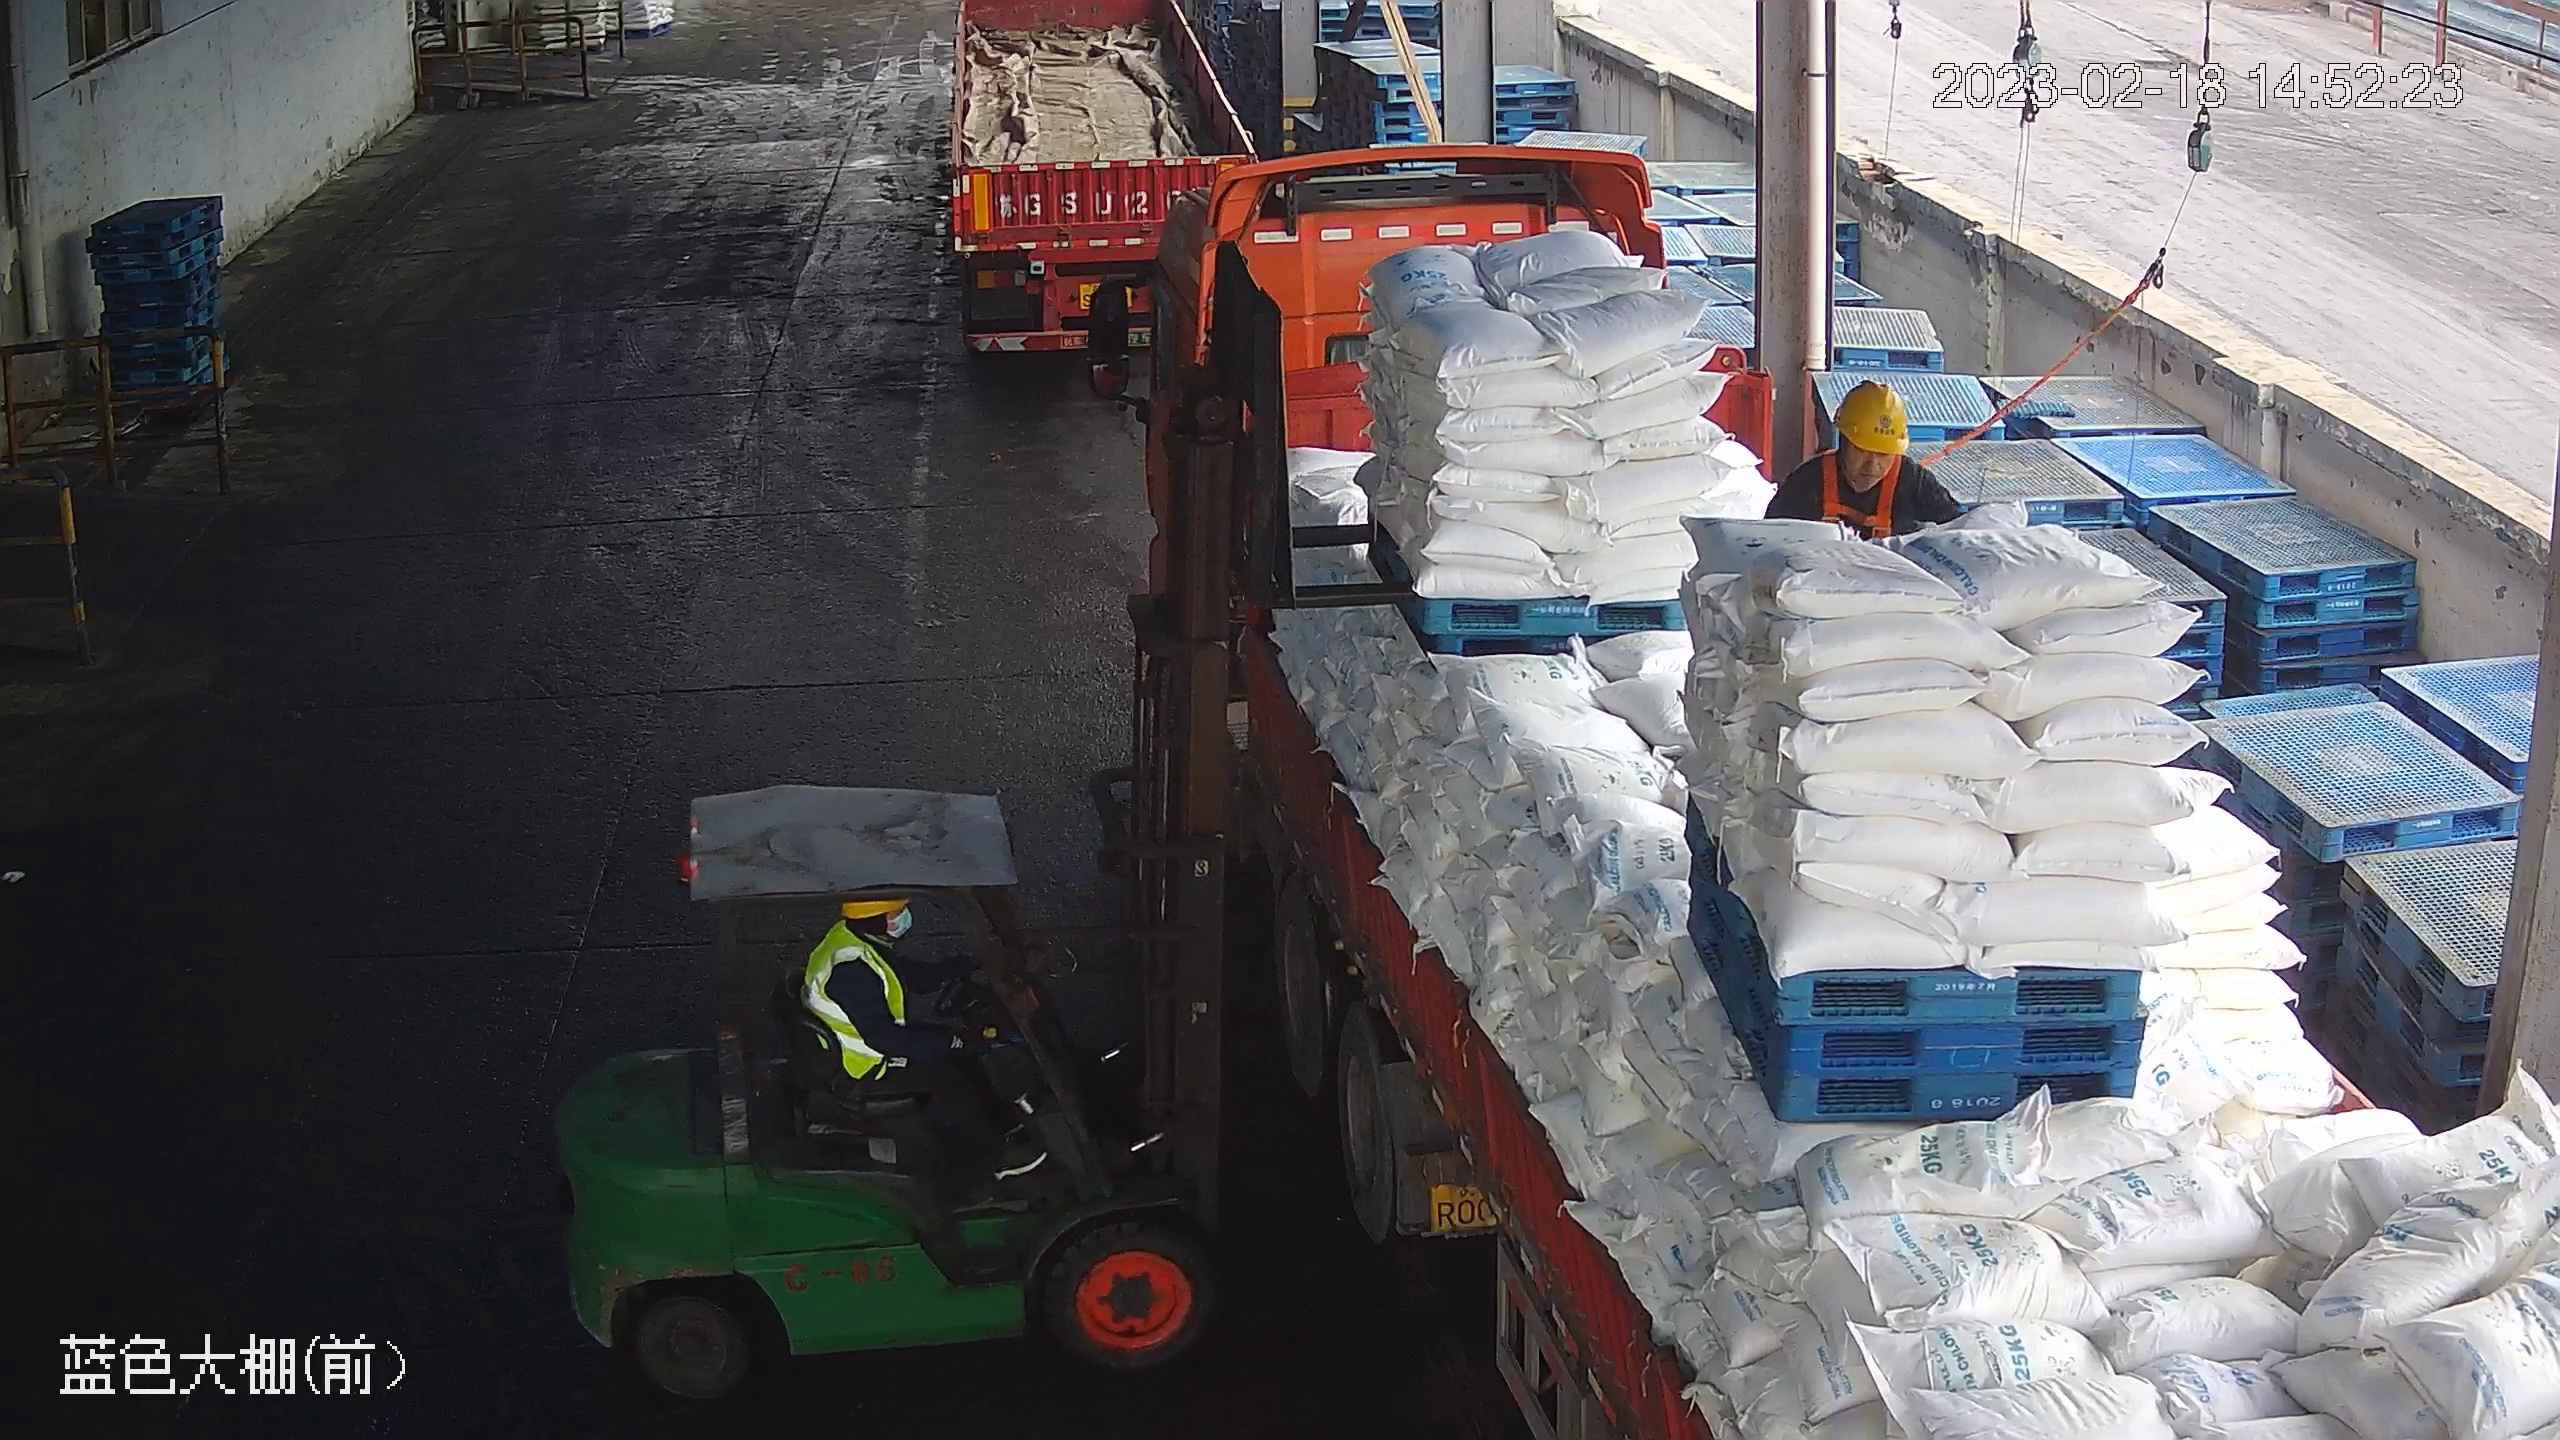belt: (1819, 452, 1912, 544)
head: (1780, 376, 1951, 516)
helmet: (1833, 376, 1915, 459)
people: (803, 890, 1046, 1169)
truck: (1082, 158, 2555, 1440), (935, 8, 1298, 327)
